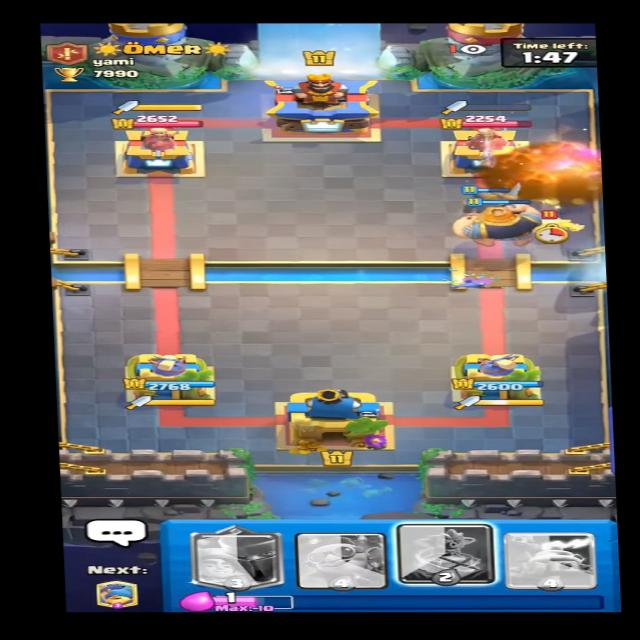mini-pekka: (526, 206, 592, 238)
